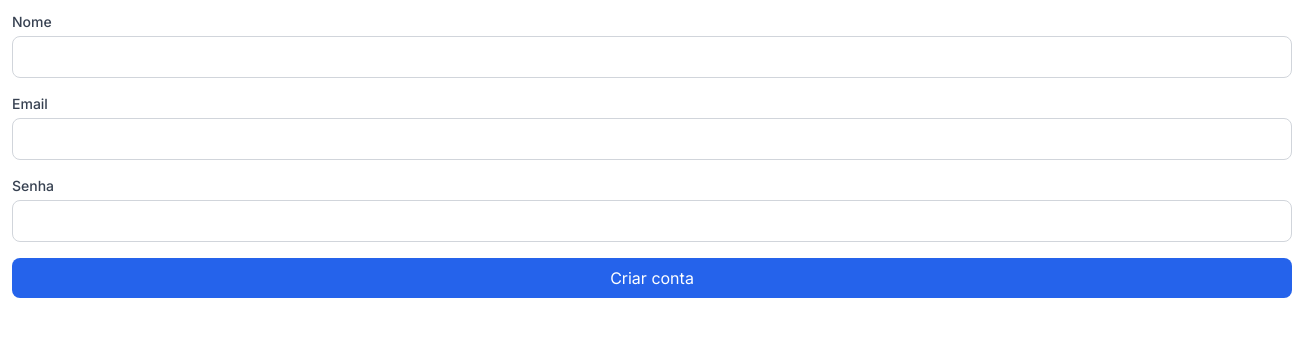
Test case: RegisterForm › exibe erro quando senha não tem ao menos 1 número
This screenshot has width=1304, height=339.
Type "Test User" into the field labelled "Nome".
click(652, 57); type("Test User")  # box [12, 36, 1292, 78]
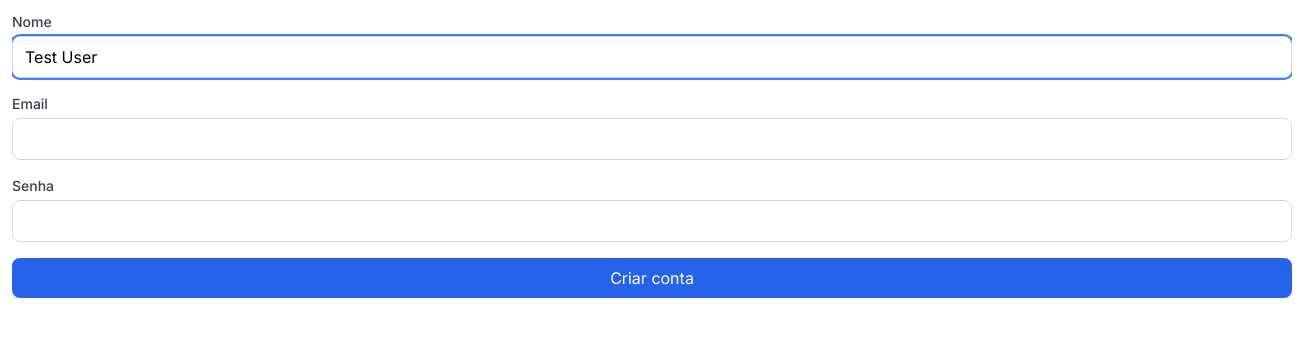
Type "test@example.com" into the field labelled "Email".
click(652, 139); type("test@example.com")  # box [12, 118, 1292, 160]
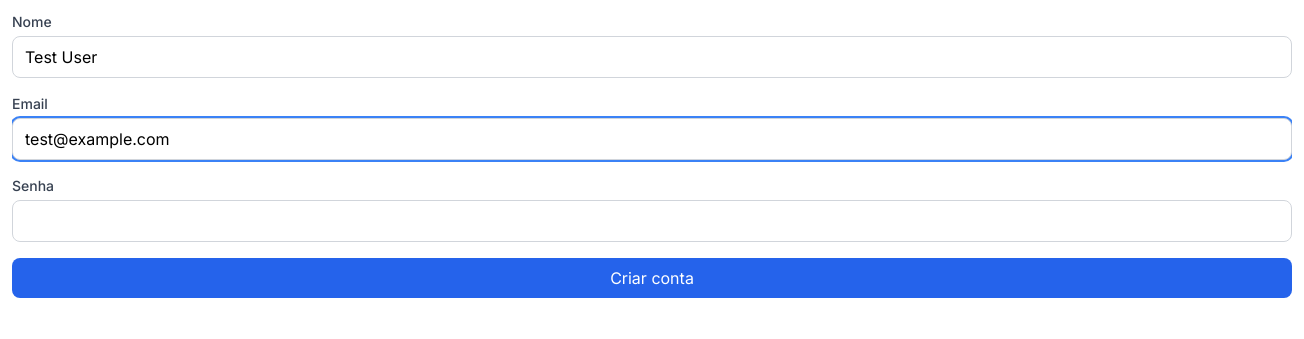
Type "onlyletters" into the password field labelled "Senha".
click(652, 221); type("onlyletters")  # box [12, 200, 1292, 242]
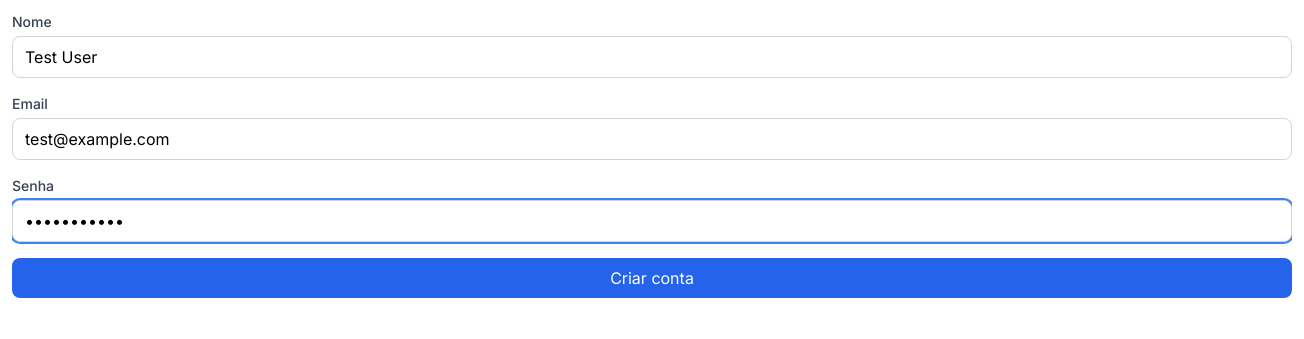
Click the button "Criar conta".
click(652, 278)  # box [12, 258, 1292, 298]
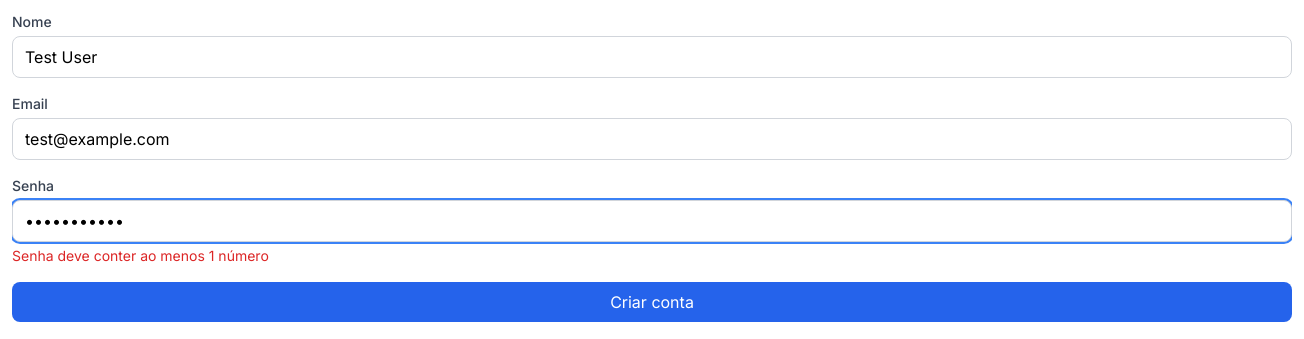
Now the text "Senha deve conter ao menos 1 número" is shown, box [12, 247, 269, 264]
